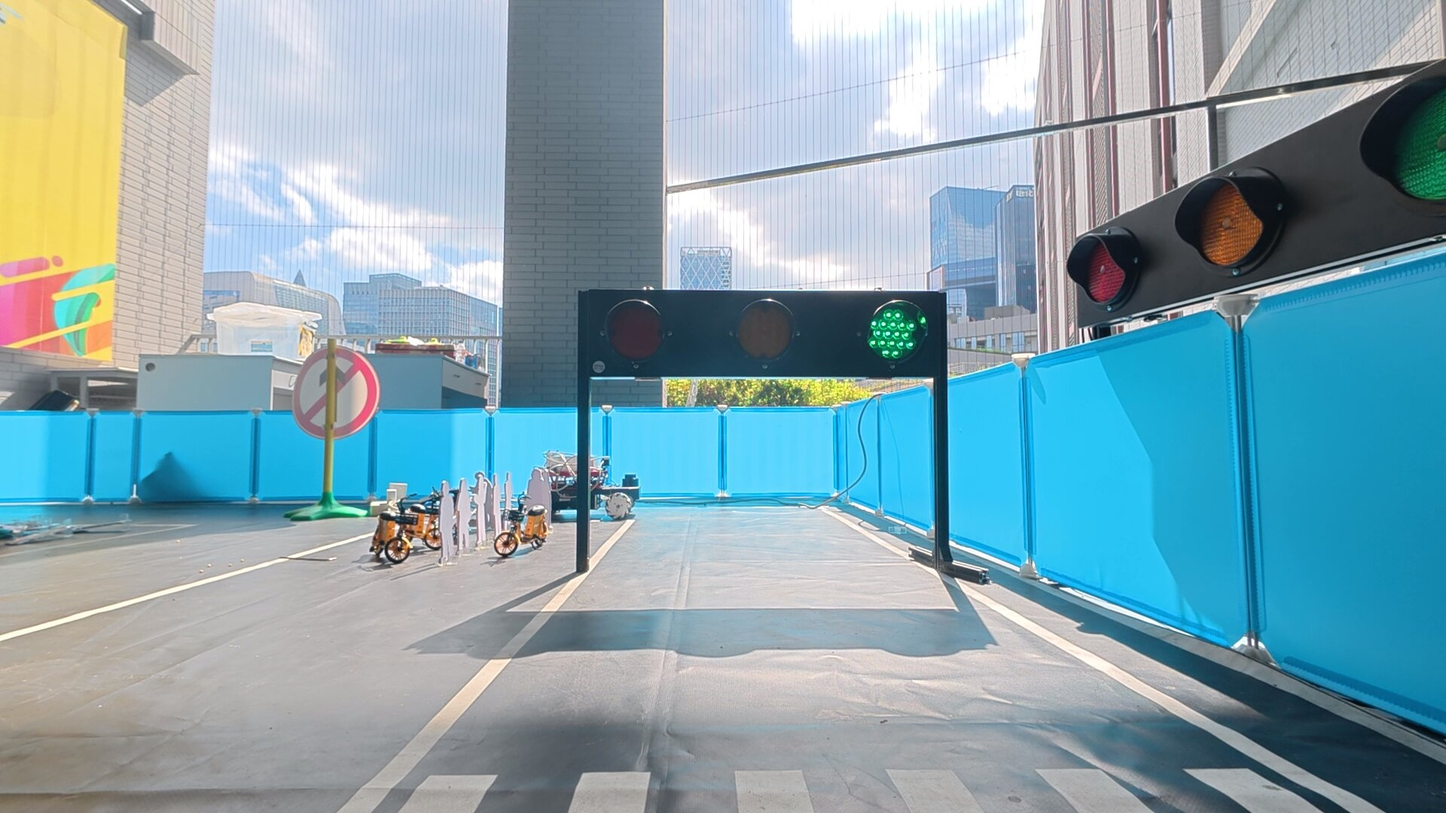go: (866, 300, 928, 367)
